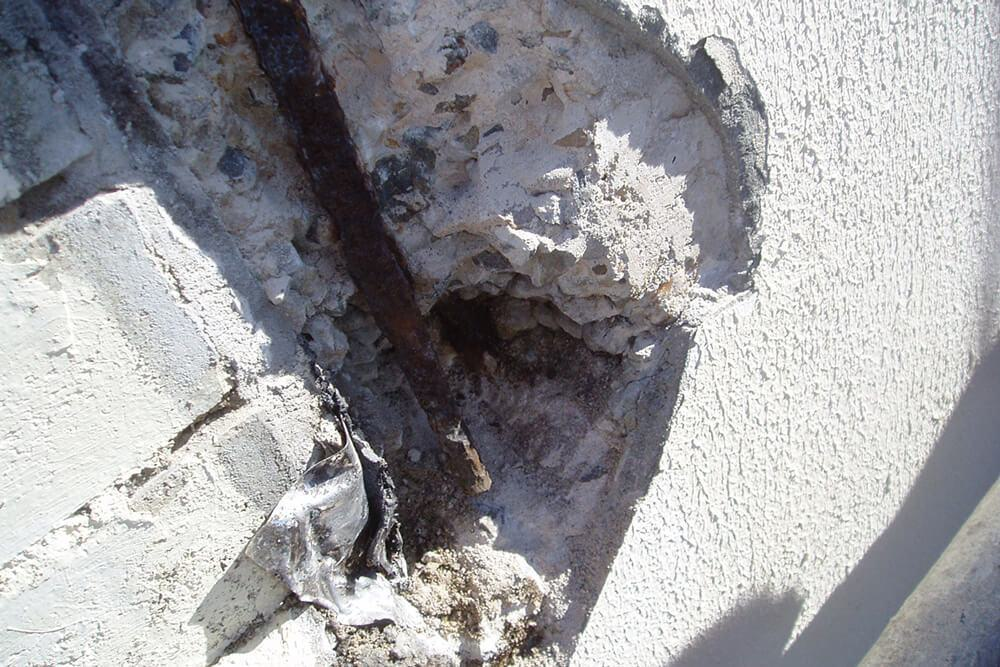Exposed reinforcement: (229, 1, 494, 498)
Spalling: (1, 1, 770, 667)
